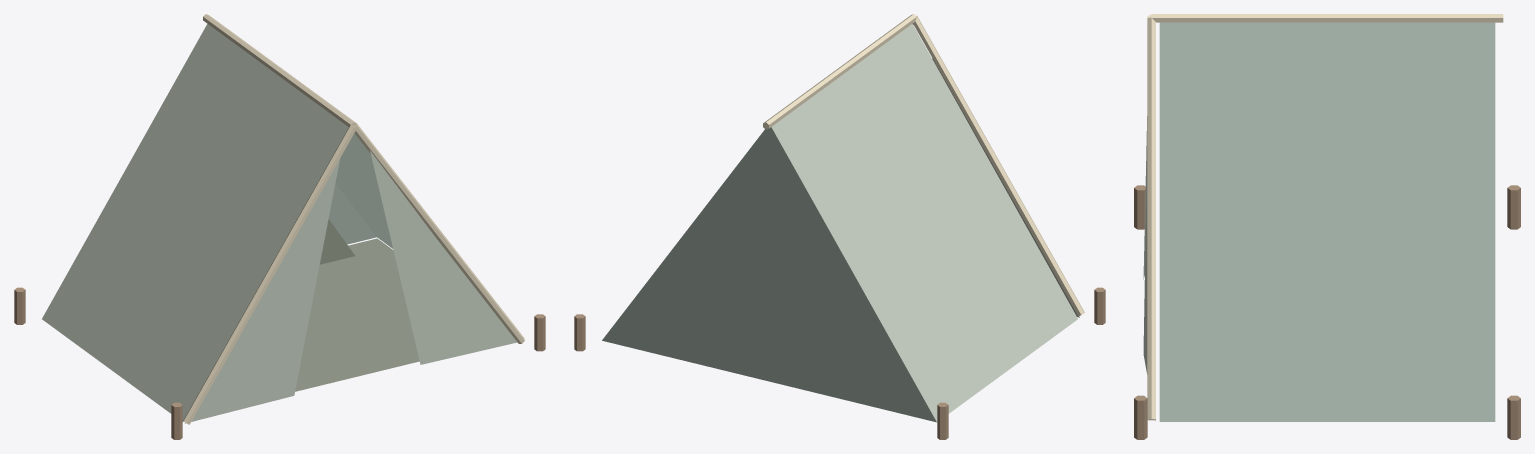
File: hiding_tent.fbx
The picture shows the model from 3 angles, left to right: view 1: azimuth 30°, elevation 25°; view 2: azimuth 150°, elevation 25°; view 3: azimuth 270°, elevation 25°; orthographic projection. The views are drawn at different scales.
Parts seen in each view (by area): view 1: hiding_tent_geometry; view 2: hiding_tent_geometry; view 3: hiding_tent_geometry.
Boxes of the visible parts, x1,y1,x2,y2 form: hiding_tent_geometry: [14, 14, 545, 439]; hiding_tent_geometry: [574, 14, 1105, 439]; hiding_tent_geometry: [1134, 14, 1520, 439].
Bounding box in the file's own units: 1.88 × 1.3 × 1.43.
